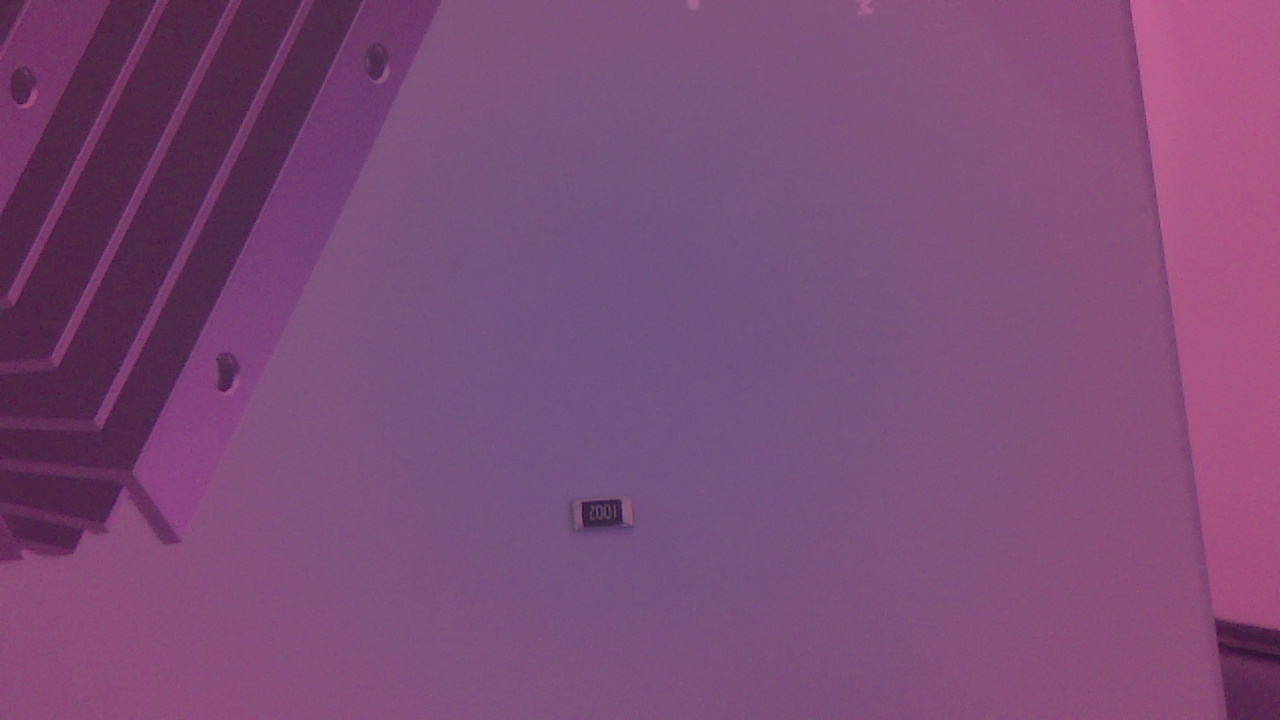Resistor: (568, 494, 641, 545)
